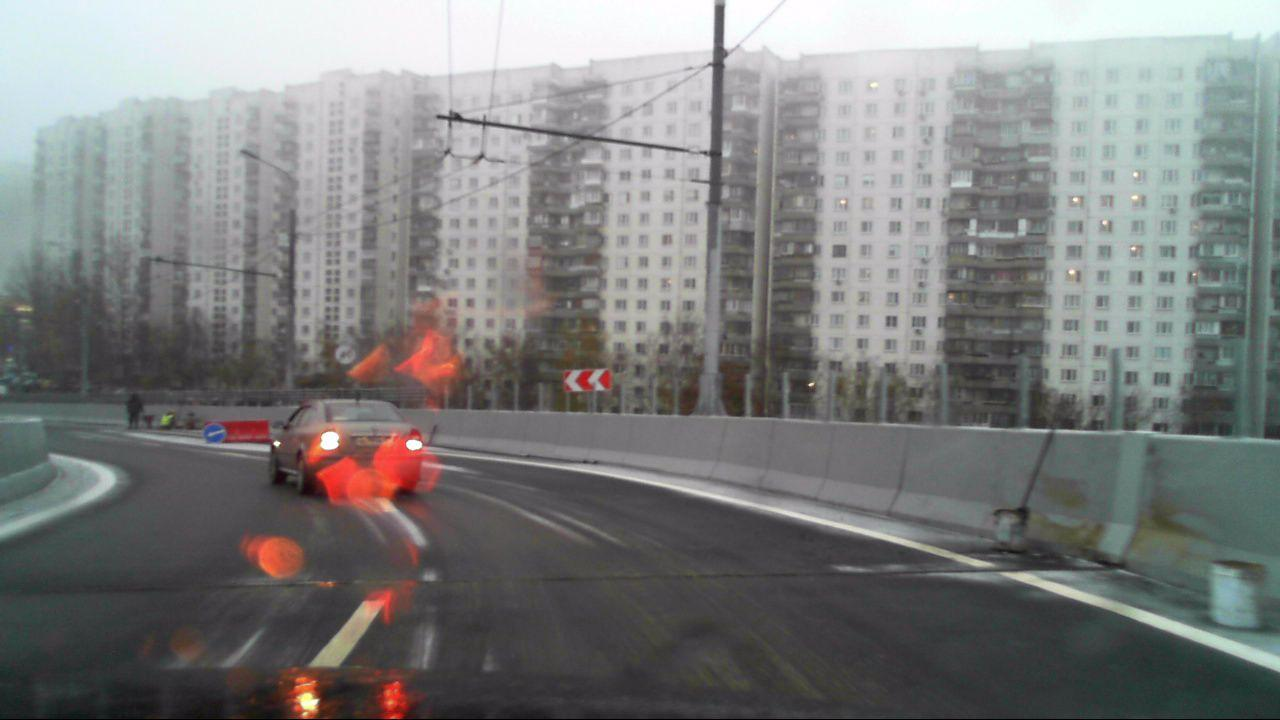1_34_2: (561, 371, 614, 394)
3_25: (334, 343, 355, 364)
4_2_2: (204, 422, 224, 442)
